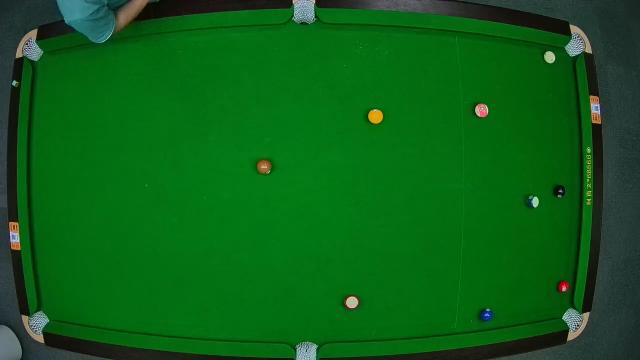bag1: (20, 40, 42, 62)
bag2: (292, 1, 316, 26)
bag3: (566, 36, 586, 58)
bag4: (29, 311, 49, 333)
bag5: (295, 340, 319, 360)
bag6: (562, 308, 582, 330)
ball0: (544, 51, 558, 65)
ball1: (368, 110, 384, 126)
ball10: (525, 194, 541, 212)
ball11: (344, 295, 360, 311)
ball12: (474, 102, 490, 116)
ball2: (480, 308, 494, 322)
ball3: (558, 279, 570, 293)
ball7: (256, 159, 272, 175)
ball8: (554, 185, 566, 198)
